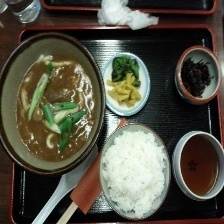sabzi: (176, 52, 219, 102)
